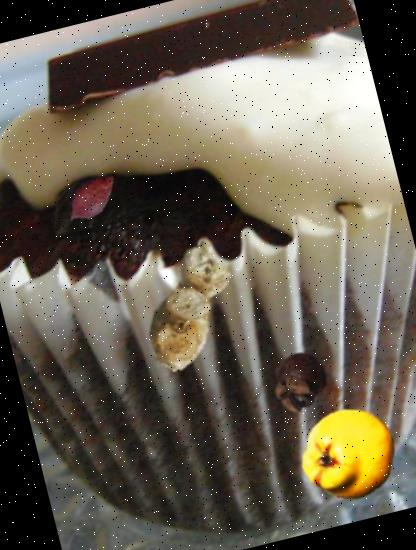Ginger: (108, 224, 272, 389)
Mangostan: (262, 345, 337, 420)
Quince: (291, 396, 408, 512)
Salak: (54, 162, 128, 236)
